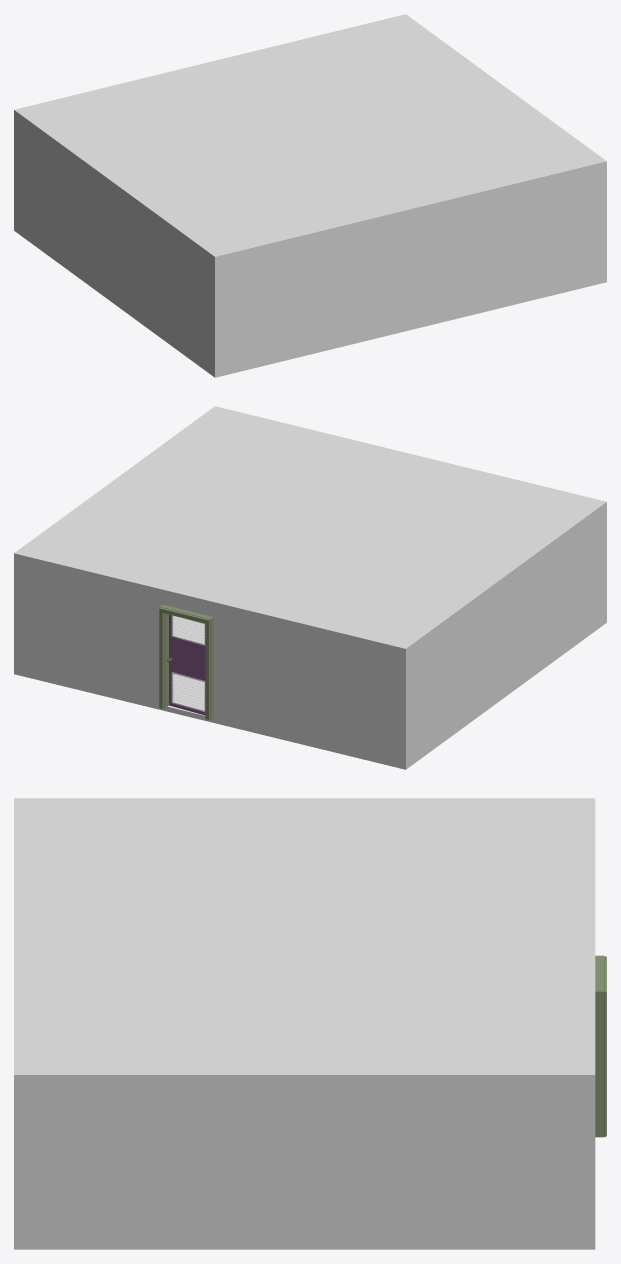
Rendered from stage2-room.glb.
3 renders of one model, top to bottom at view 1: azimuth 30°, elevation 25°; view 2: azimuth 150°, elevation 25°; view 3: azimuth 270°, elevation 25°, orthographic. The views are drawn at different scales.
Parts seen in each view (by area): view 1: bedroom_0/0.exterior; view 2: bedroom_0/0.exterior, LouverDoorFactory(8790525).spawn_asset(0), DoorCasingFactory(8790525).spawn_asset(0); view 3: bedroom_0/0.exterior, DoorCasingFactory(8790525).spawn_asset(0).
Boxes of the visible parts, left/top/right/bottom form: bedroom_0/0.exterior: left=14, top=14, right=606, bottom=377; bedroom_0/0.exterior: left=14, top=406, right=606, bottom=769; LouverDoorFactory(8790525).spawn_asset(0): left=167, top=614, right=205, bottom=715; DoorCasingFactory(8790525).spawn_asset(0): left=159, top=604, right=213, bottom=720; bedroom_0/0.exterior: left=14, top=798, right=595, bottom=1249; DoorCasingFactory(8790525).spawn_asset(0): left=595, top=955, right=606, bottom=1137.
Size of the model in its own units: 8.99 by 2.65 by 8.15.
